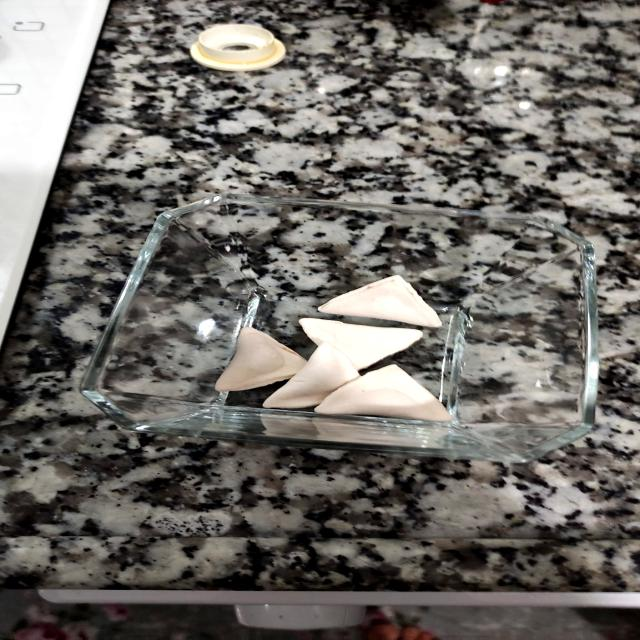turkish dumplings: (183, 255, 490, 441)
